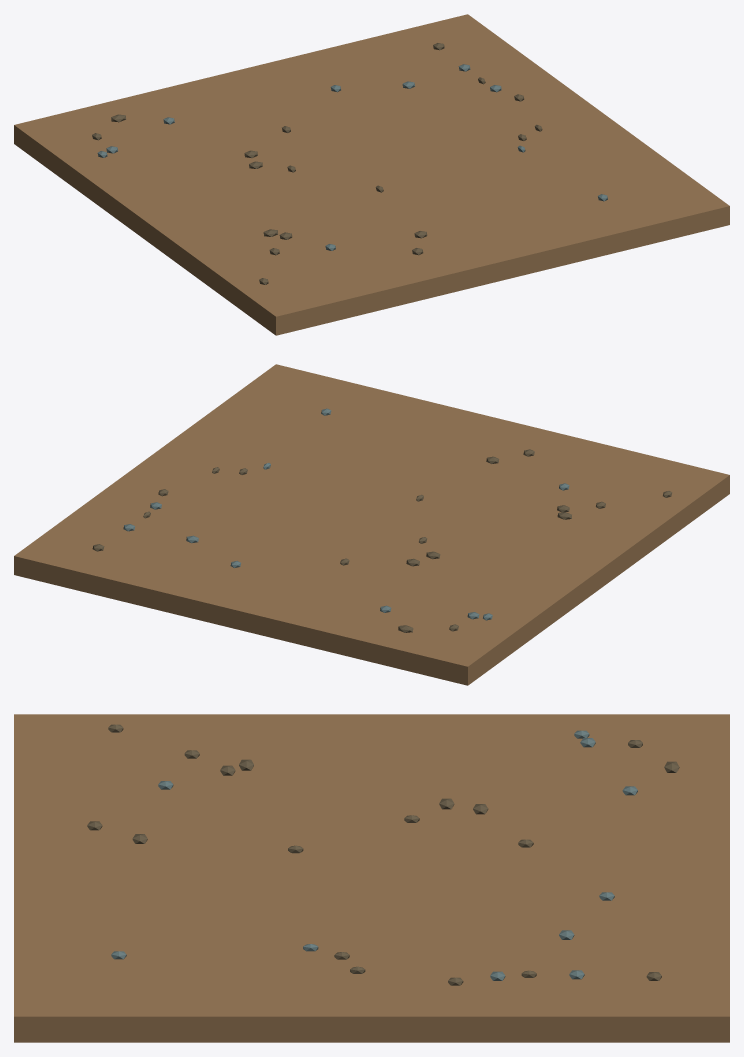
The model's file is path_dirt.glb.
3 views of the same model, one above another, from view 1: azimuth 30°, elevation 25°; view 2: azimuth 150°, elevation 25°; view 3: azimuth 270°, elevation 25° (orthographic). The views are drawn at different scales.
Parts seen in each view (by area): view 1: Keep_Mesh; view 2: Keep_Mesh; view 3: Keep_Mesh.
Boxes of the visible parts, left/top/right/bottom form: Keep_Mesh: left=14, top=14, right=729, bottom=335; Keep_Mesh: left=14, top=364, right=729, bottom=685; Keep_Mesh: left=14, top=714, right=729, bottom=1042.
Size of the model in its own units: 4 by 0.2 by 4.
